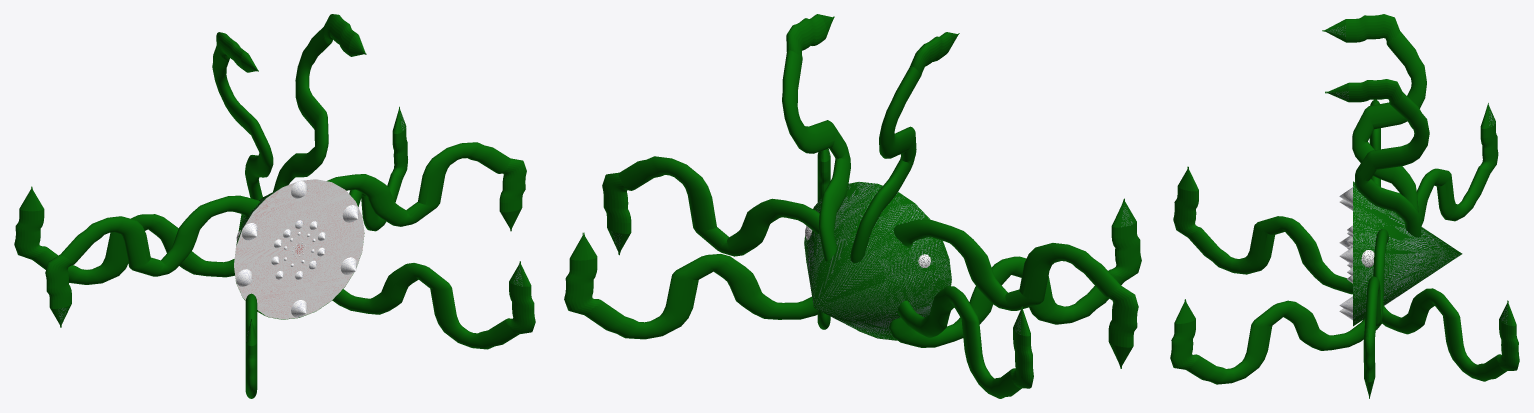
The model's file is kraken.dae.
3 views of the same model, side by side, from view 1: azimuth 30°, elevation 25°; view 2: azimuth 150°, elevation 25°; view 3: azimuth 270°, elevation 25° (orthographic). The views are drawn at different scales.
Parts seen in each view (by area): view 1: Kraken_Tenticle (×7), Kraken_Head, The_Kraken; view 2: Kraken_Tenticle (×7), Kraken_Head, The_Kraken; view 3: Kraken_Tenticle (×7), Kraken_Head, The_Kraken.
Boxes of the visible parts, x1=… form: Kraken_Tenticle (×7): x1=14, y1=14, x2=535, y2=398; Kraken_Head: x1=234, y1=179, x2=364, y2=319; The_Kraken: x1=45, y1=195, x2=259, y2=327; Kraken_Tenticle (×7): x1=564, y1=14, x2=1141, y2=398; Kraken_Head: x1=804, y1=181, x2=951, y2=340; The_Kraken: x1=893, y1=219, x2=1138, y2=368; Kraken_Tenticle (×7): x1=1170, y1=14, x2=1519, y2=398; Kraken_Head: x1=1353, y1=181, x2=1462, y2=326; The_Kraken: x1=1369, y1=100, x2=1380, y2=186.
Bounding box in the file's own units: 3817 × 2501 × 2277.
